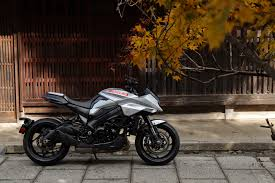motorcycle: (15, 63, 183, 167)
